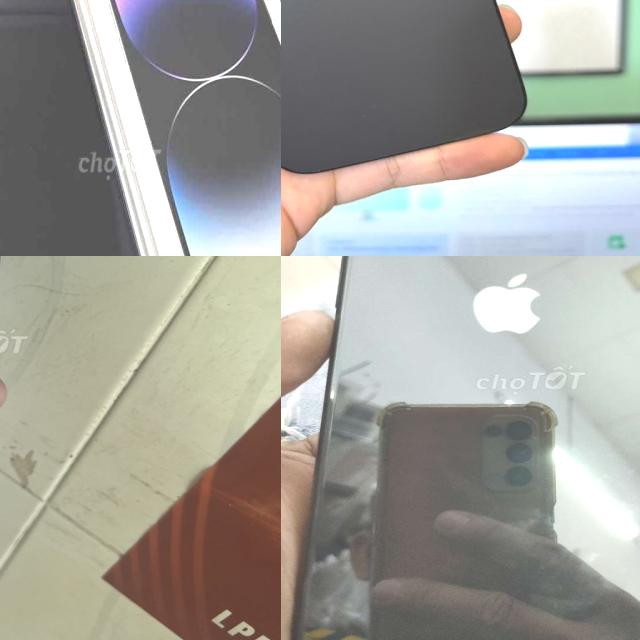gen_14: (281, 0, 532, 182), (0, 0, 163, 256)
gen_x_xs: (292, 256, 640, 640)
